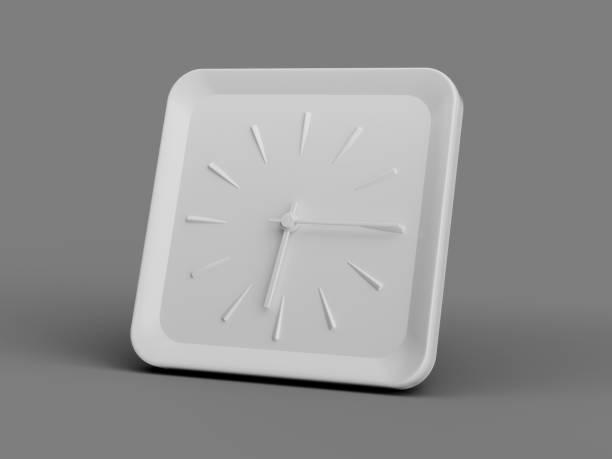clock: (118, 20, 482, 388)
